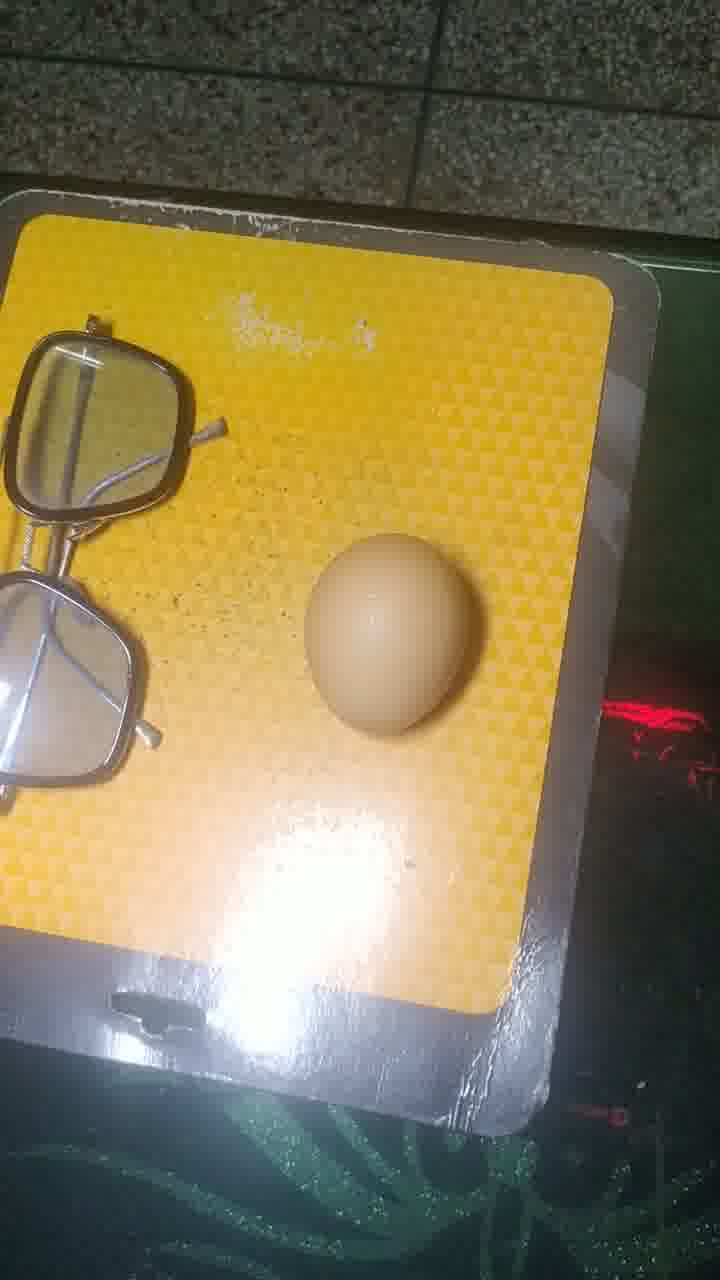egg: (297, 530, 488, 747)
sunglass: (1, 313, 231, 836)
